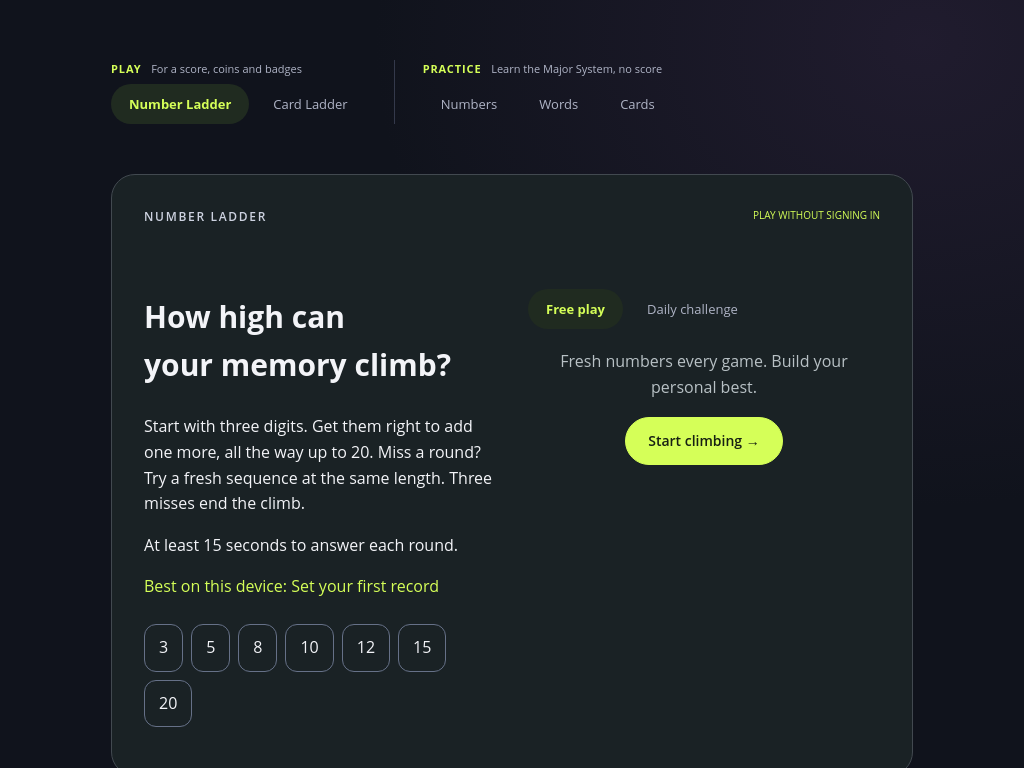
Scenario: Card Ladder deals a deck one card at a time and checks the order
Later steps or results of the test are not shown.
What coordinates should you click on to do the following:
click the button "Card Ladder"
I would click on:
 (310, 104)
Its box is x1=255 y1=84 x2=366 y2=124.
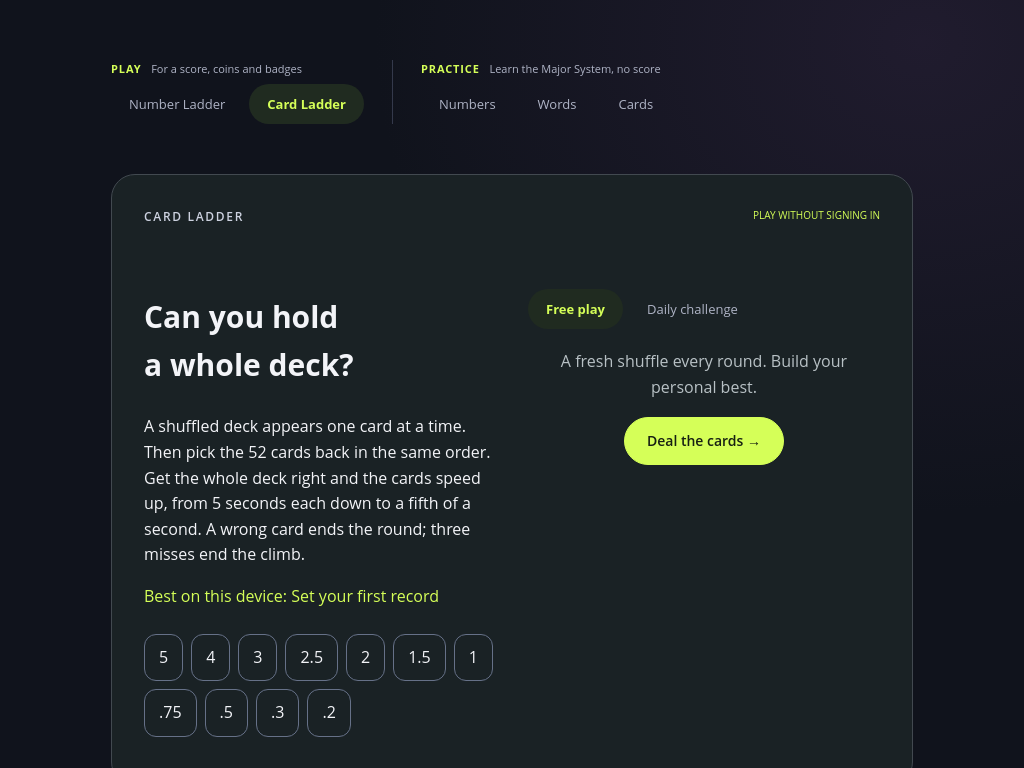
What coordinates should you click on to do the following:
click the button "Deal the cards →"
I would click on:
 (704, 441)
Its box is x1=624 y1=417 x2=784 y2=465.
Wait 265100 ms
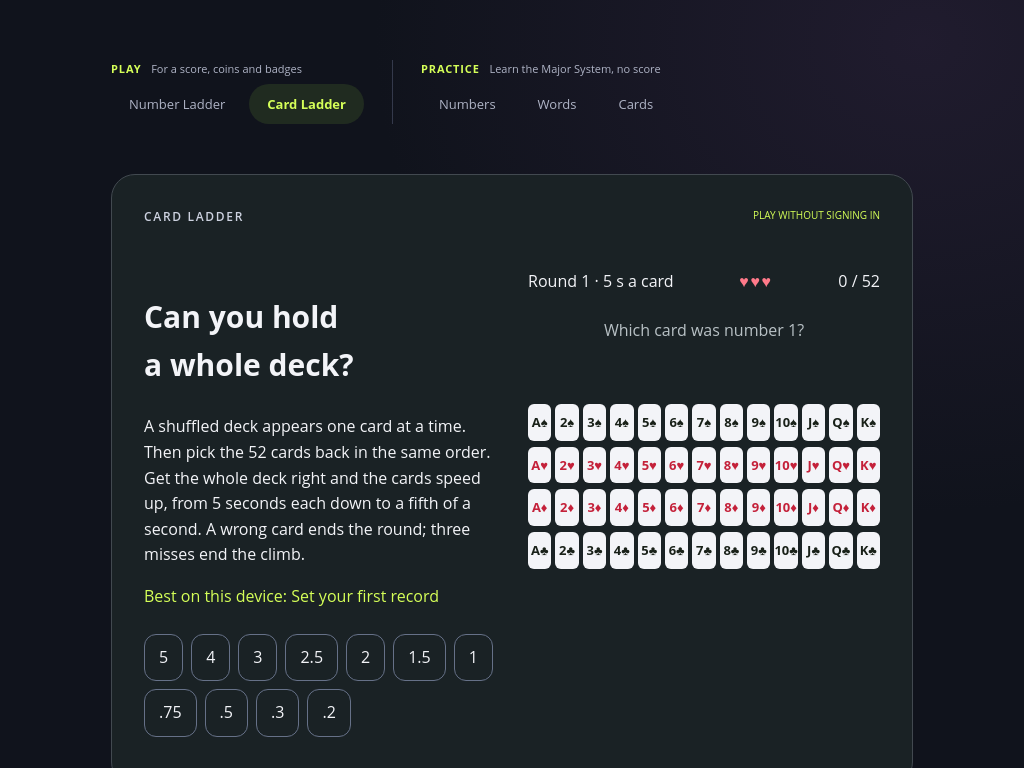
Expected: the text "Which card was number 1?" is shown, x1=604 y1=319 x2=804 y2=341
What coordinates should you click on to do the following:
click the button "3♣"
I would click on:
 (594, 551)
Its box is x1=583 y1=532 x2=606 y2=569.
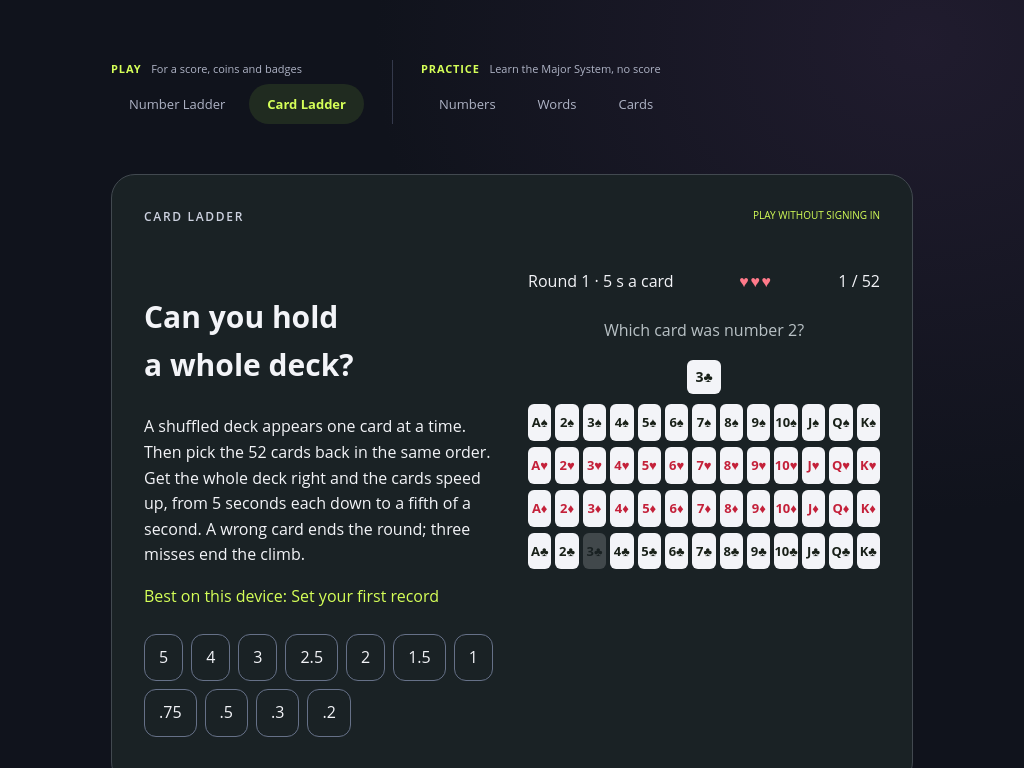
What coordinates should you click on to do the following:
click the button "4♣"
I would click on:
 (622, 551)
Its box is x1=610 y1=532 x2=634 y2=569.
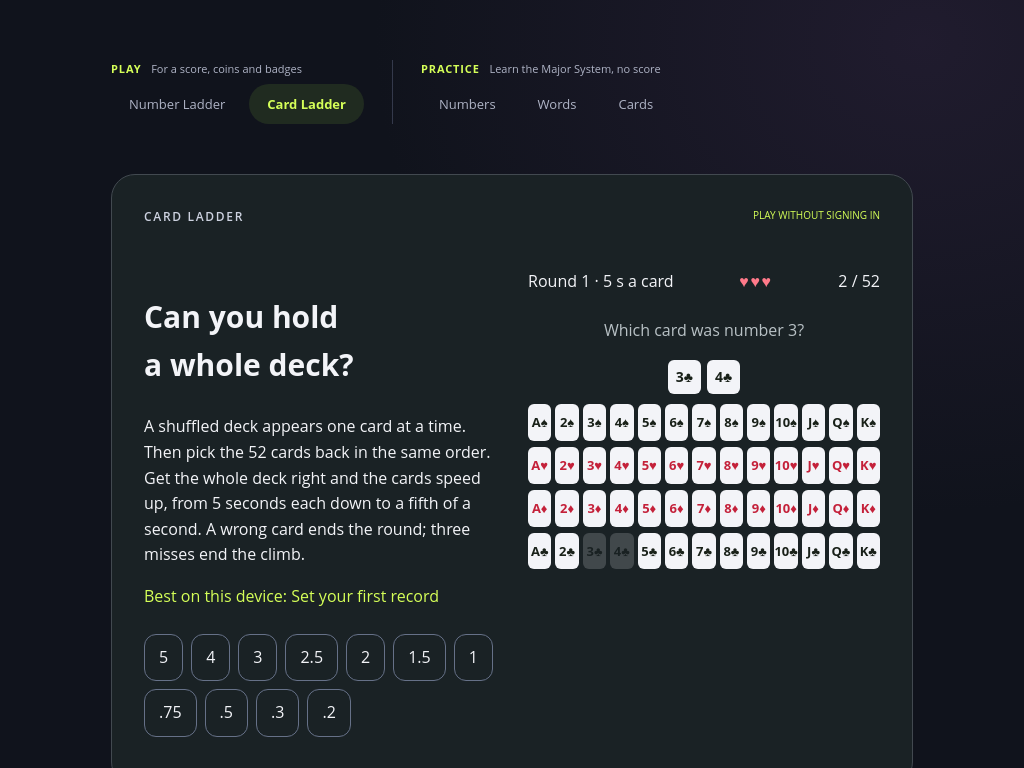
Expected: the text "Which card was number 3?" is shown, x1=604 y1=319 x2=804 y2=341
What coordinates should you click on to do the following:
click the button "8♣"
I would click on:
 (731, 551)
Its box is x1=720 y1=532 x2=743 y2=569.
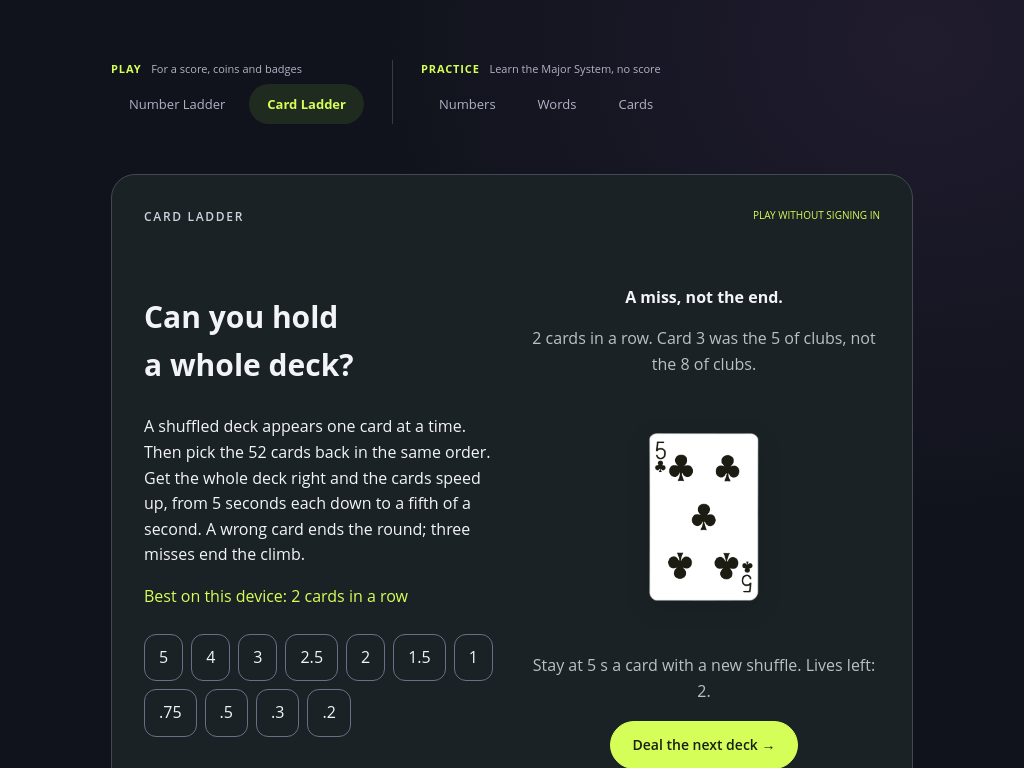
Expected: the heading "A miss, not the end." is shown, x1=625 y1=286 x2=783 y2=308
Expected: the text "2 cards in a row." is shown, x1=532 y1=327 x2=876 y2=375
